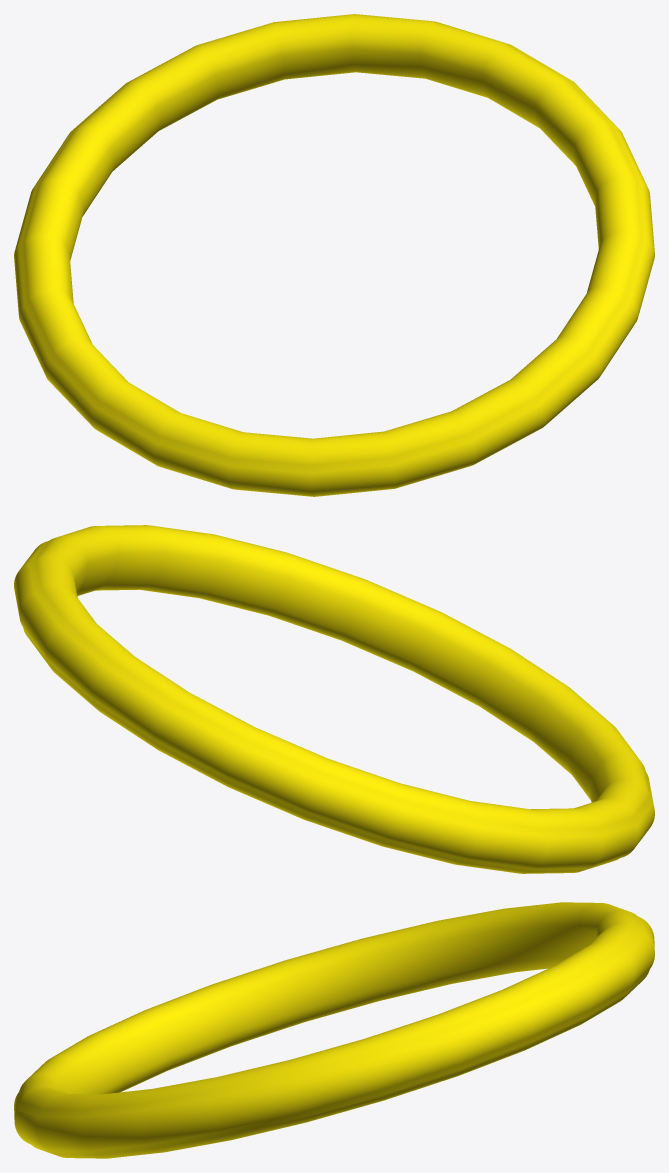
File: Angel Ring.fbx
The picture shows the model from 3 angles, top to bottom: view 1: azimuth 30°, elevation 25°; view 2: azimuth 150°, elevation 25°; view 3: azimuth 270°, elevation 25°; orthographic projection. The views are drawn at different scales.
Parts seen in each view (by area): view 1: Material2; view 2: Material2; view 3: Material2.
Boxes of the visible parts, x1,y1,x2,y2 form: Material2: (14,14,654,496); Material2: (14,525,654,873); Material2: (14,902,654,1158).
Bounding box in the file's own units: 314 × 140 × 311.
